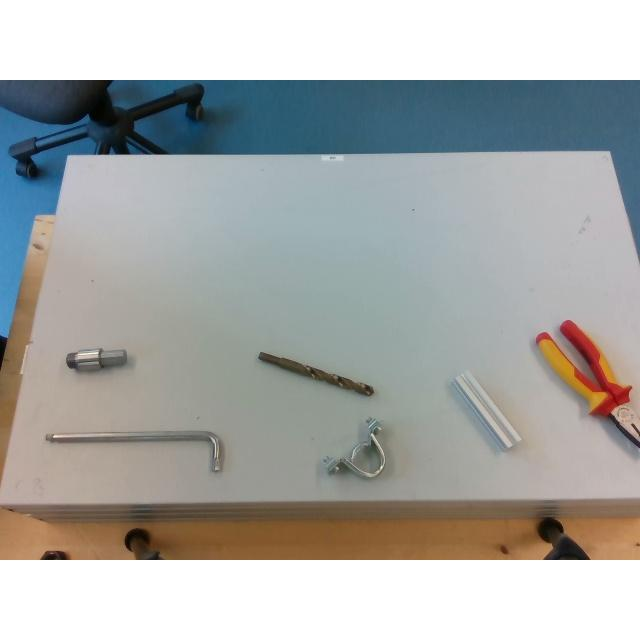AllenKey: (45, 430, 221, 470)
Axis2: (66, 346, 126, 369)
Drill: (258, 352, 374, 396)
F20_20_G: (451, 370, 522, 450)
Housing: (322, 418, 386, 478)
